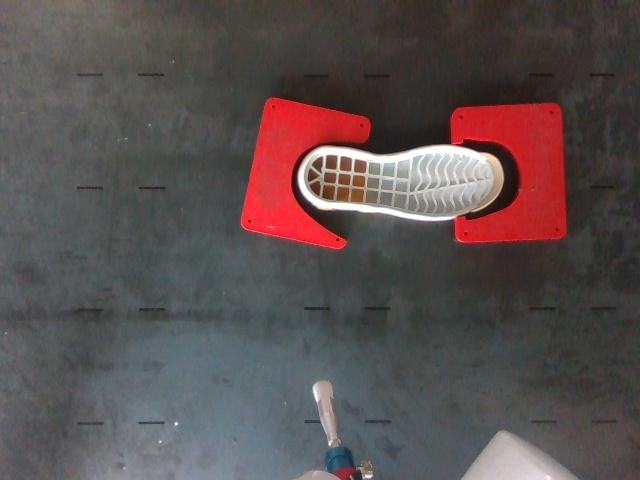shoes: (304, 147, 503, 217)
